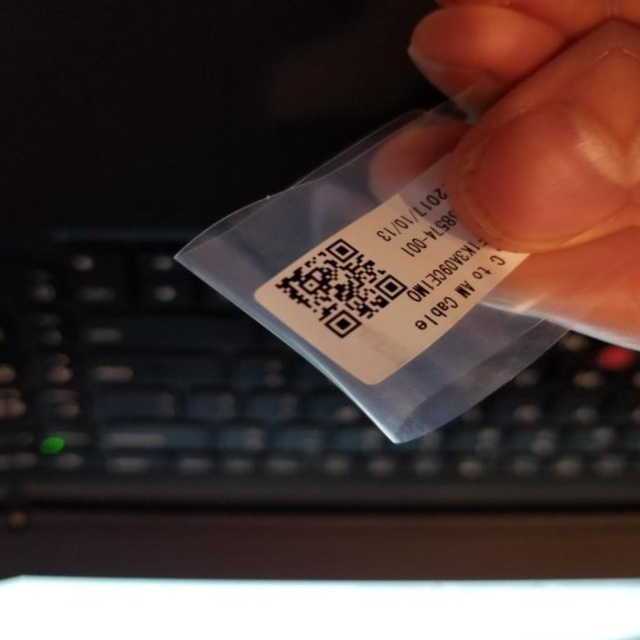qr-code: (259, 224, 422, 355)
